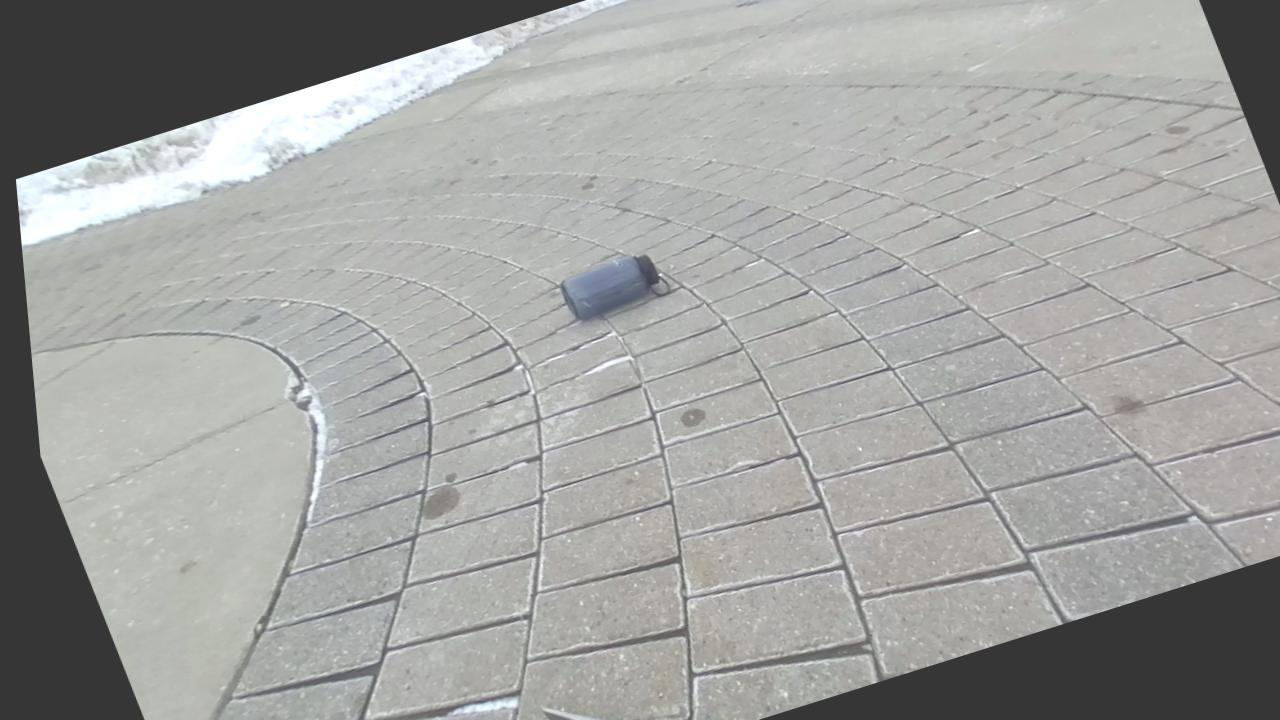bottle: (559, 254, 671, 320)
